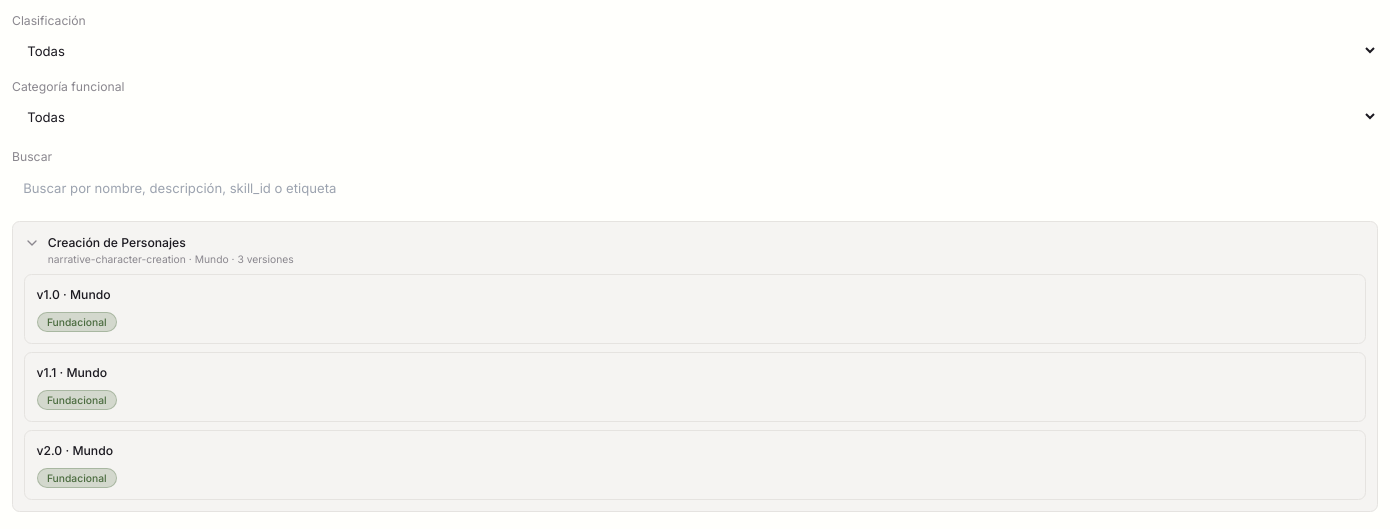
GlobalMethodologyLibrary — catalog grouped by skill (TW7 presentation) › keeps a multi-version group coherent under a query: only surviving versions render
Expected: the text "v1.0 · Mundo" is shown, [36,287,111,302]
// "base" matches only the v1.1 and v2.0 descriptions — v1.0 drops out.
Type "base" into the search field at (695, 188), box [12,170,1378,206]
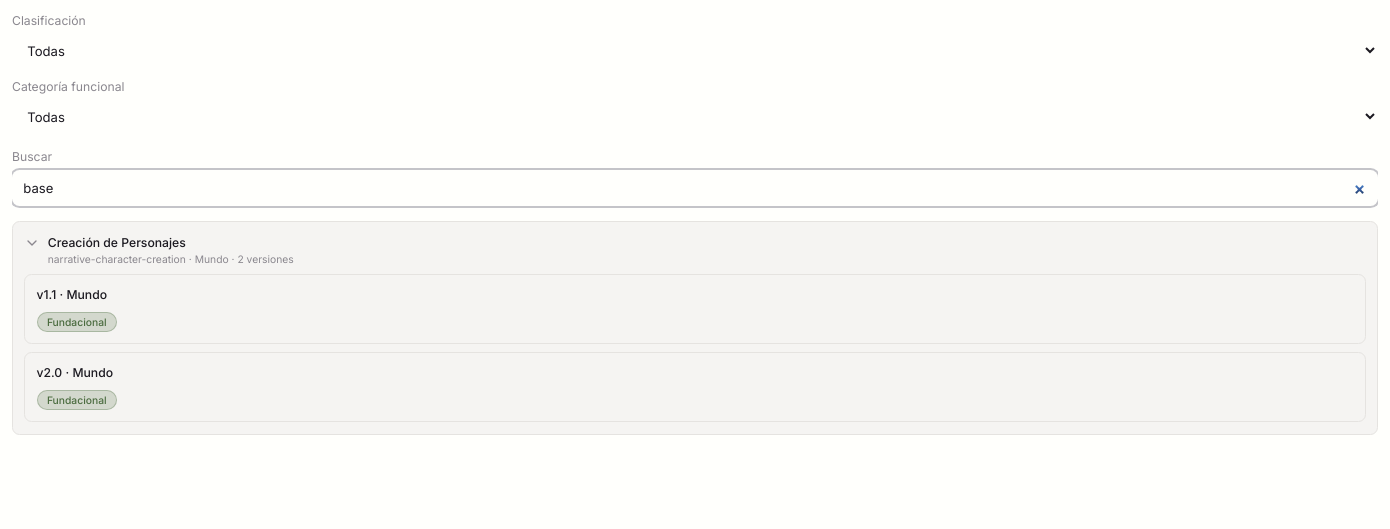
Expected: the text "v1.1 · Mundo" is shown, [36,287,107,302]
Expected: the button "v1.0 · Mundo" is gone
Expected: the text "narrative-character-creation · Mundo · 2 versiones" is shown, [48,253,294,265]
